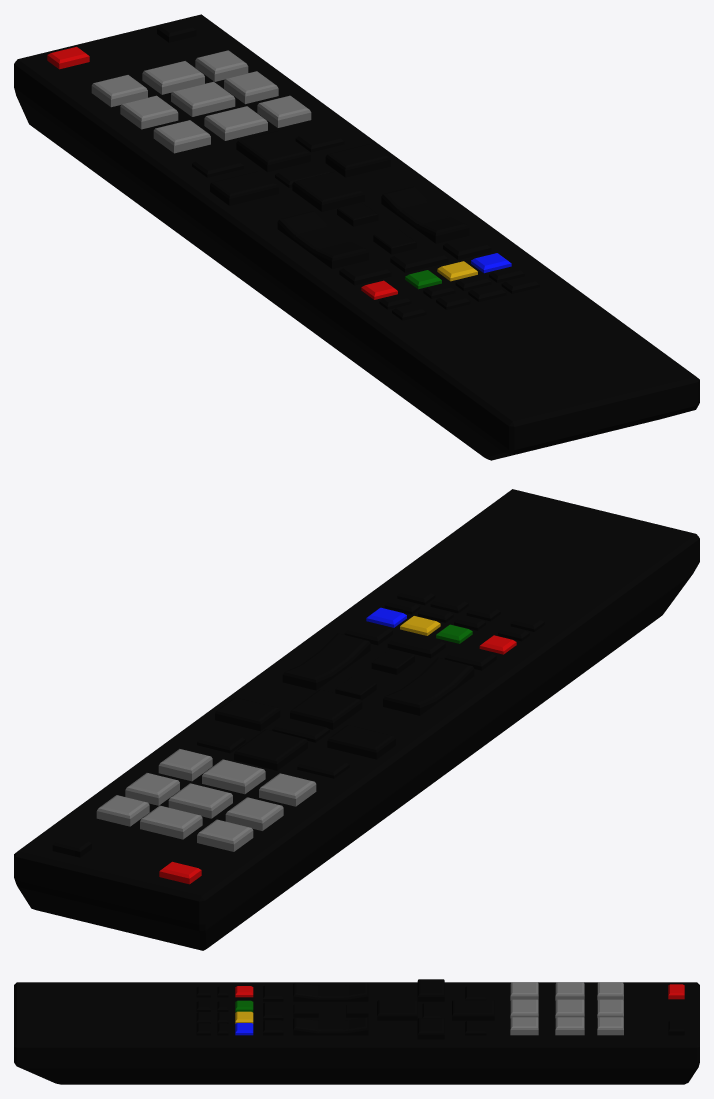
Rendered from tv remote.fbx.
3 renders of one model, top to bottom at view 1: azimuth 30°, elevation 25°; view 2: azimuth 150°, elevation 25°; view 3: azimuth 270°, elevation 25°, orthographic. The views are drawn at different scales.
Parts seen in each view (by area): view 1: top, buttons.002, bottom, buttons.001, buttons; view 2: top, buttons.002, bottom, buttons.001, buttons; view 3: top, bottom, buttons.002, buttons.001, buttons, buttons.006, buttons.004, buttons.005.
Part boxes in pixels (<box>): top: <box>14,14,699,449</box>; buttons.002: <box>157,20,539,320</box>; bottom: <box>14,87,698,460</box>; buttons.001: <box>91,50,311,153</box>; buttons: <box>47,46,397,299</box>; top: <box>14,489,699,924</box>; buttons.002: <box>52,587,544,857</box>; bottom: <box>14,562,699,950</box>; buttons.001: <box>96,749,316,851</box>; buttons: <box>159,635,516,884</box>; top: <box>14,982,699,1063</box>; bottom: <box>14,1062,699,1084</box>; buttons.002: <box>196,979,684,1039</box>; buttons.001: <box>510,982,623,1035</box>; buttons: <box>235,984,684,999</box>; buttons.006: <box>235,1023,253,1035</box>; buttons.004: <box>235,1011,253,1023</box>; buttons.005: <box>235,1000,253,1011</box>.
Bounding box in the file's own units: 247 × 92.26 × 1119.
